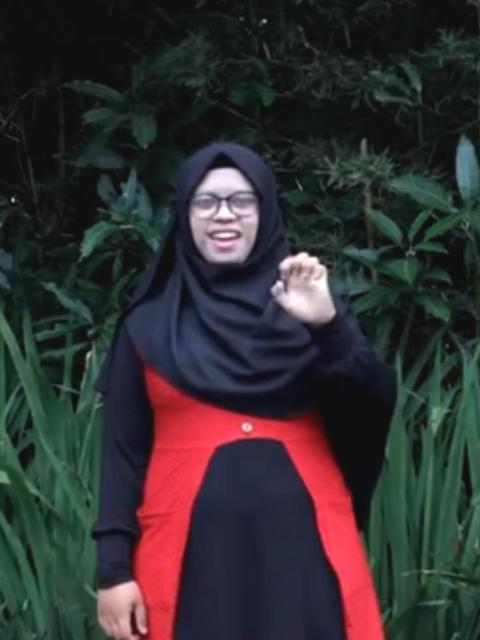E: (270, 252, 336, 322)
